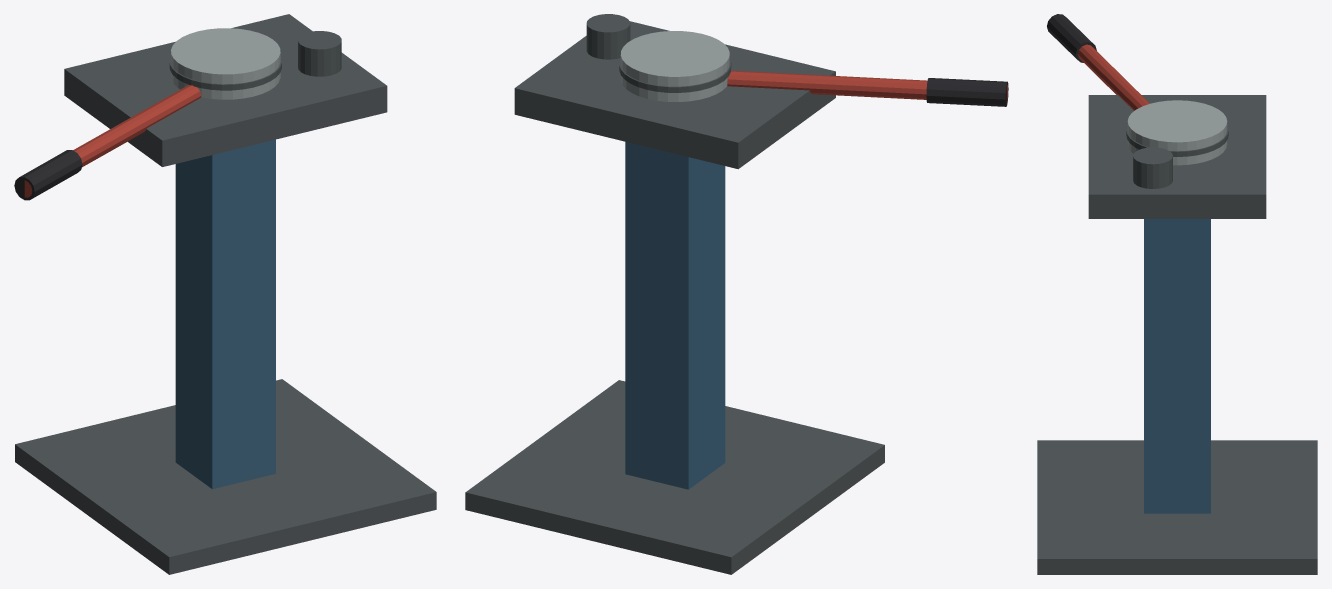
The model's file is SHOP_TubeBenderStation.glb.
The picture shows the model from 3 angles, left to right: view 1: azimuth 30°, elevation 25°; view 2: azimuth 150°, elevation 25°; view 3: azimuth 270°, elevation 25°; orthographic projection. The views are drawn at different scales.
Visible parts, largest first — view 1: Base, Pedestal, DiePlate, BendingDie, Lever, Follower, HandleGrip, DieGroove; view 2: Base, Pedestal, DiePlate, BendingDie, Lever, HandleGrip, Follower, DieGroove; view 3: Base, Pedestal, DiePlate, BendingDie, Follower, Lever, HandleGrip, DieGroove.
Part boxes in pixels (x1,y1,x2,y2): Base: (15,379,436,574); Pedestal: (175,139,275,489); DiePlate: (64,14,387,166); BendingDie: (171,28,280,99); Lever: (24,85,201,197); Follower: (298,31,341,76); HandleGrip: (14,150,82,200); DieGroove: (169,56,281,90); Base: (465,380,884,574); Pedestal: (625,141,725,489); DiePlate: (514,21,835,169); BendingDie: (620,31,729,101); Lever: (727,70,1008,102); HandleGrip: (926,78,1008,106); Follower: (586,14,630,59); DieGroove: (619,59,731,92); Base: (1037,440,1317,574); Pedestal: (1144,219,1210,513); DiePlate: (1088,95,1266,218); BendingDie: (1127,100,1227,165); Follower: (1133,147,1172,188); Lever: (1078,44,1149,110); HandleGrip: (1047,14,1096,62); DieGroove: (1126,126,1228,156).
Size of the model in its own units: 0.9553 by 0.9815 by 0.63.
